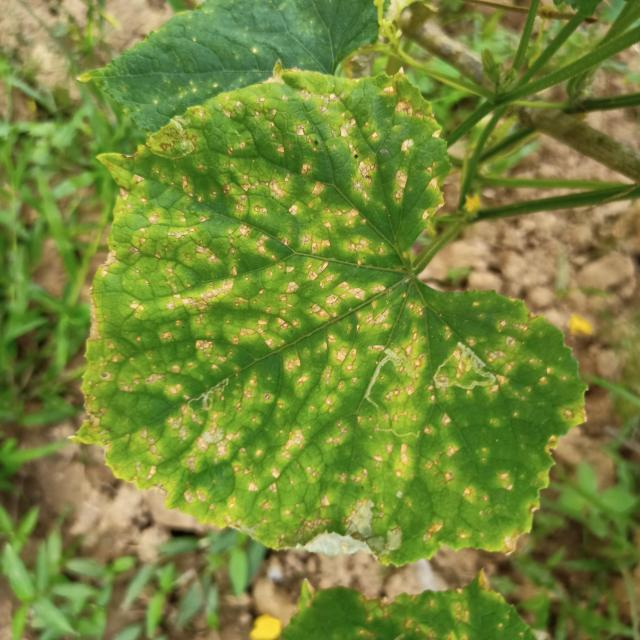disease_cucumber: (93, 86, 566, 548)
